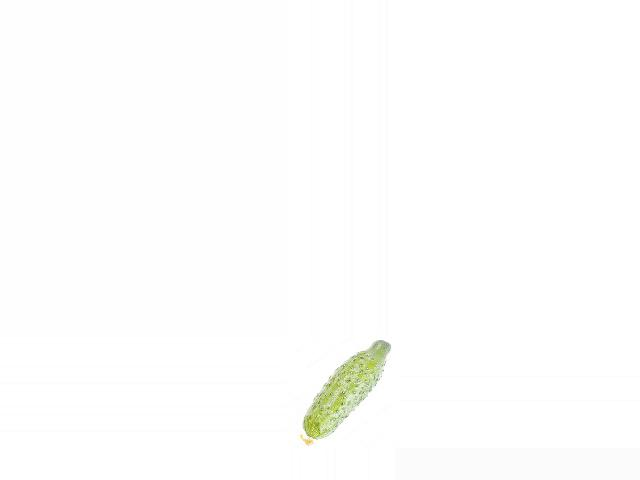cucumber: (300, 340, 391, 446)
